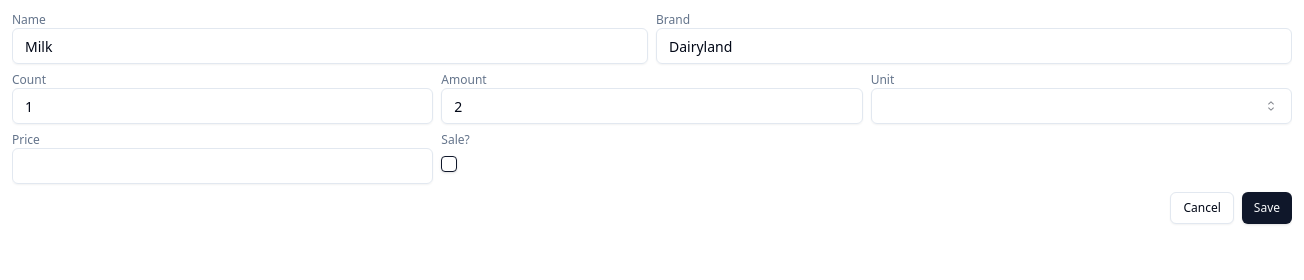
ScannedReceiptItemForm › validates the price field as required
The width and height of the screenshot is (1304, 280).
Clear the field labelled "Price" at (223, 166), box 12,148 -> 433,184
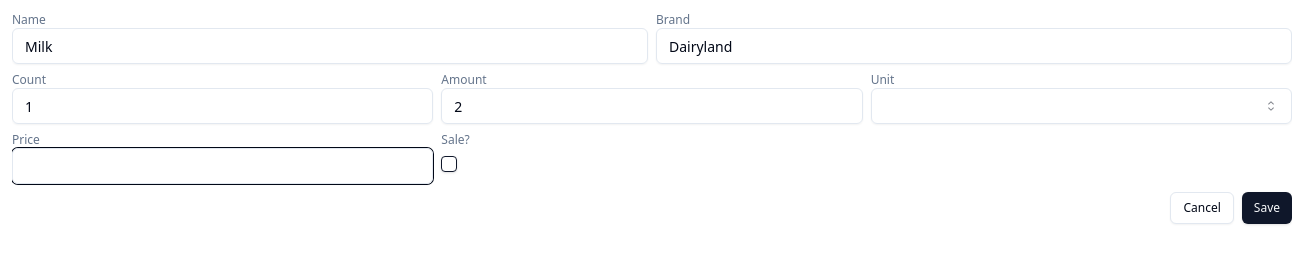
Click the button "Save" at (1267, 208), box 1242,192 -> 1292,224
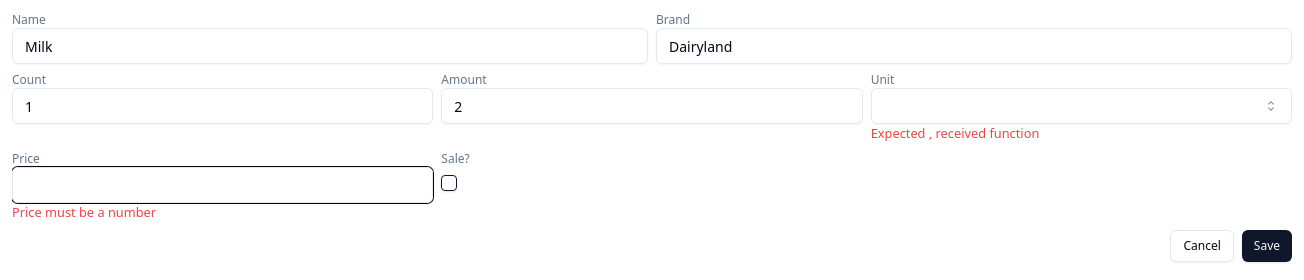
Now the text "Price must be a number" is shown, box 12,203 -> 156,221
